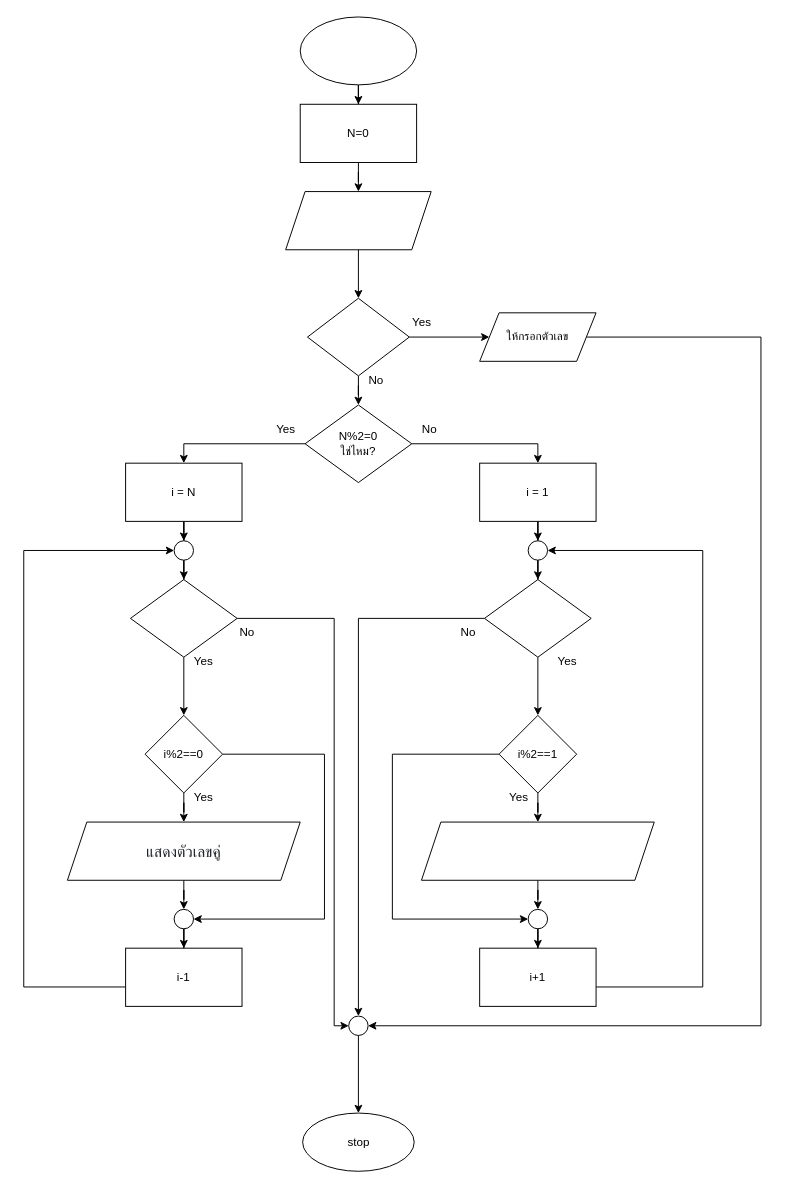
Some shapes in this 786 by 1188 pixel diagram are drawn without their labels. The centre of each missing label's shape, as x and y in pixels:
"i >=0" goes at point 183,618.
"i<=N?" goes at point 537,618.
"start" goes at point 358,50.
"รับค่าตัวเลขจากผู้ใช้ เก็บไว้ในตัวแปร N" goes at point 358,220.
"เป็นตัวเลข ใช่ไหม?" goes at point 358,336.
"แสดงตัวเลขคี่" goes at point 537,850.
